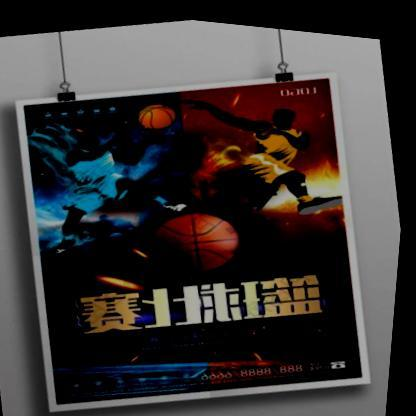basketball: (145, 196, 249, 280)
